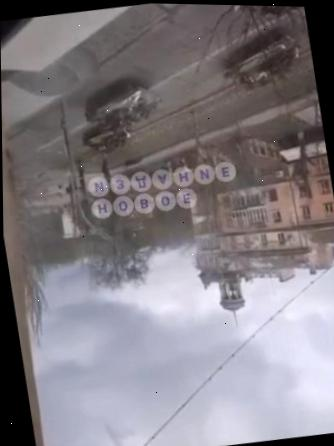tank: (218, 28, 306, 94), (80, 76, 166, 140), (226, 5, 307, 36), (81, 123, 134, 158)
